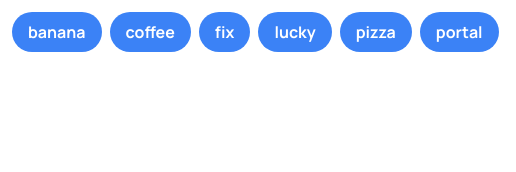
Test: JParrots › adds a parrot when a button is clicked, disabling the button
Step 1. Click the button "banana" → [57, 32], box [12,12,102,52]
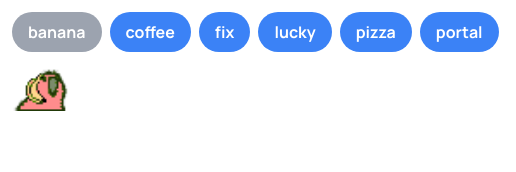
Expected: the picture with alt text "banana parrot" is shown, [12,68,72,111]
Expected: the button "banana" is disabled, [12,12,102,52]
